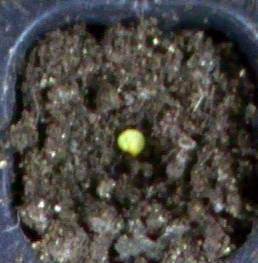pepper seed: (43, 49, 189, 206)
